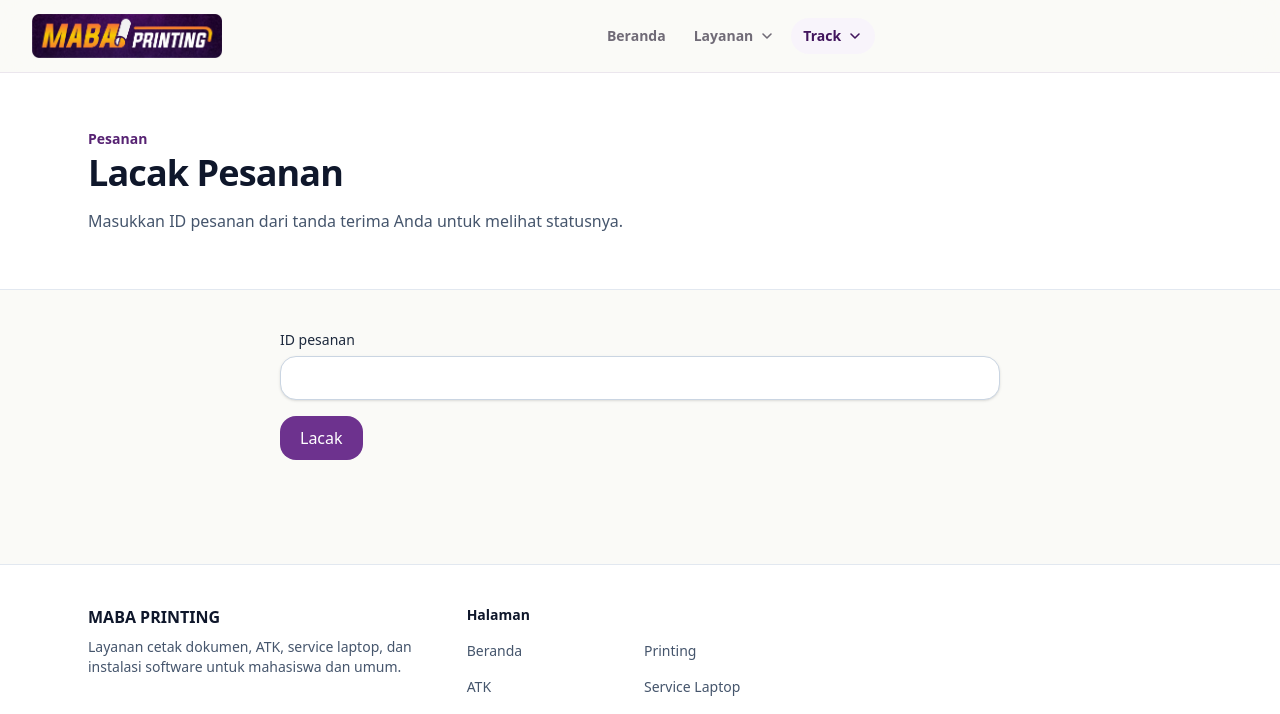
it: /track-order › explains a 404 response
This screenshot has width=1280, height=714.
Type "MP-2026-7K92D4QX8M7RA" into the field labelled "ID pesanan". click: x=640, y=378
box: [280,356,1000,400]
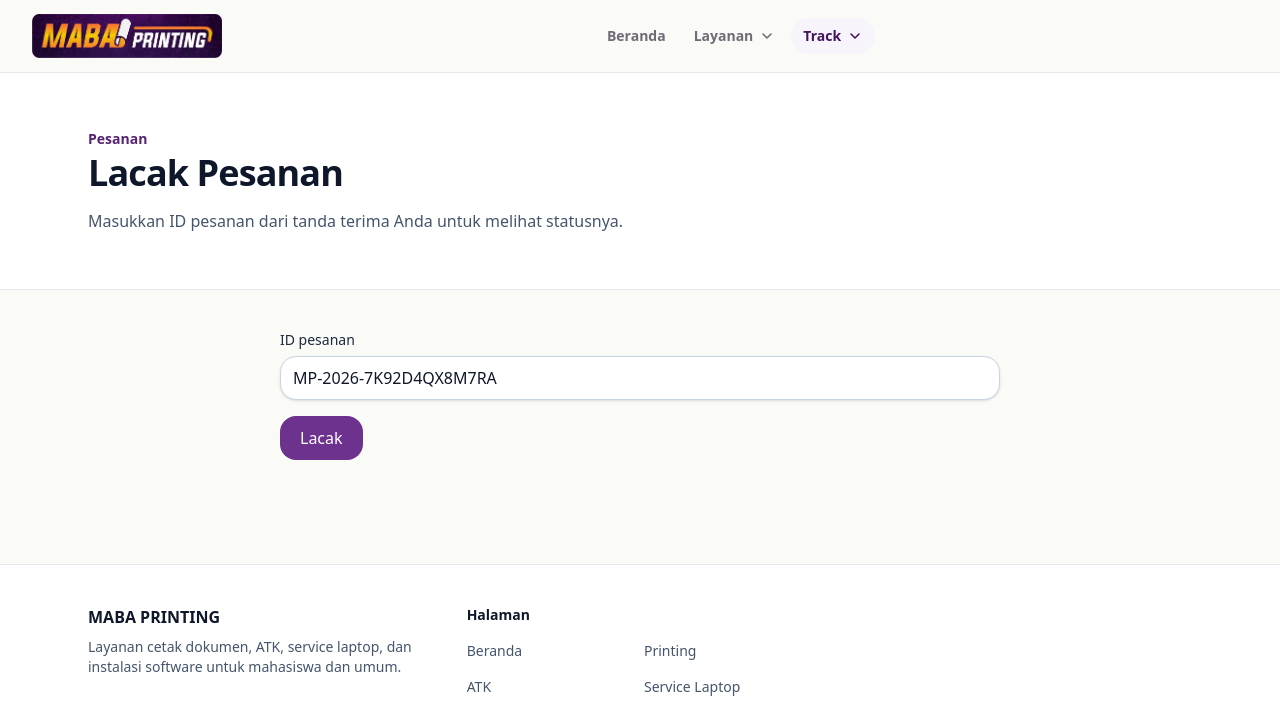
Click the button "Lacak". click: x=321, y=438
box: [280,416,363,460]
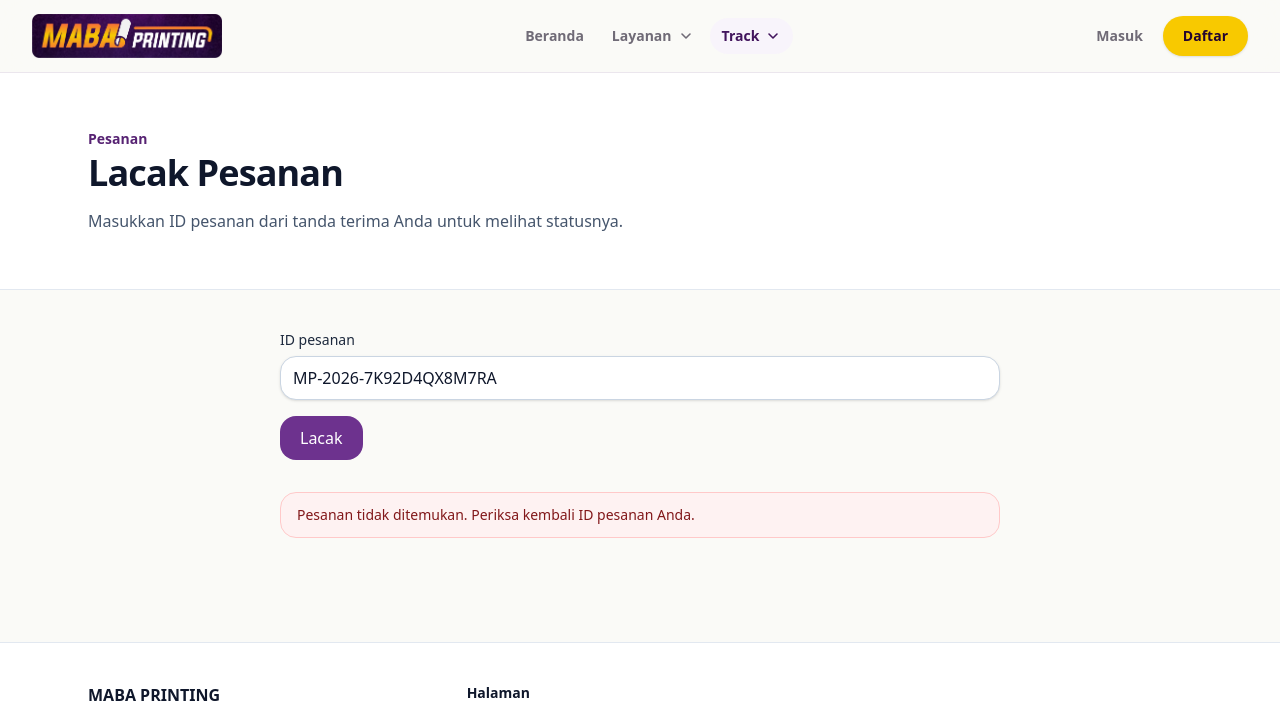
Expected: the message shows "Pesanan tidak ditemukan", [297,505,695,524]
